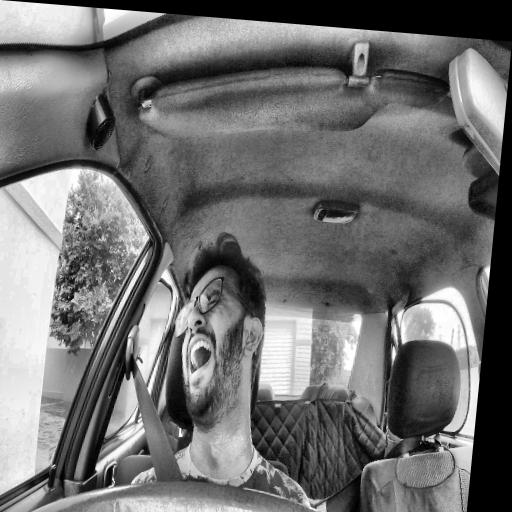drowsy: (165, 228, 275, 427)
